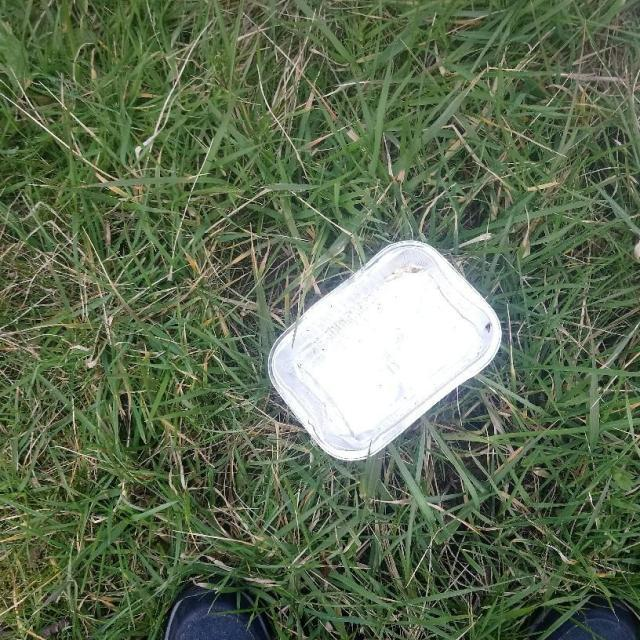Can-Metal: (265, 236, 504, 464)
